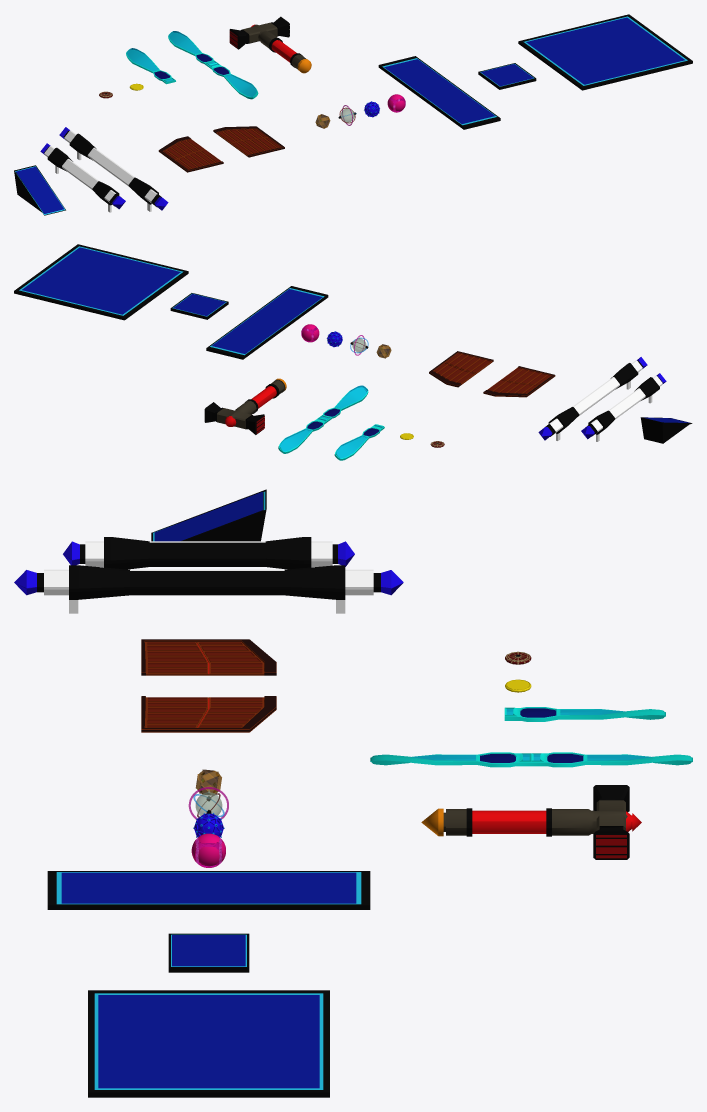
The model's file is object 1.1.fbx_Collection.fbx.
The picture shows the model from 3 angles, top to bottom: view 1: azimuth 30°, elevation 25°; view 2: azimuth 150°, elevation 25°; view 3: azimuth 270°, elevation 25°; orthographic projection. The views are drawn at different scales.
Parts seen in each view (by area): view 1: Lar. dis, Hall, Hammer, Handrail2, Hall.001, Handrail, r door, l door, fan, sm. distr, Fan 2; view 2: Lar. dis, Hall, Hammer, Handrail2, Handrail, l door, r door, fan, sm. distr, Hall.001, Fan 2; view 3: Lar. dis, Hall, Handrail2, Handrail, Hammer, l door, r door, fan, Hall.001, sm. distr, Fan 2, Ball 2.
Part boxes in pixels (x1=…): Lar. dis: x1=518, y1=14, x2=692, y2=90; Hall: x1=378, y1=56, x2=500, y2=129; Hammer: x1=229, y1=16, x2=311, y2=73; Handrail2: x1=59, y1=127, x2=168, y2=211; Hall.001: x1=14, y1=165, x2=65, y2=215; Handrail: x1=40, y1=143, x2=125, y2=212; r door: x1=213, y1=126, x2=284, y2=157; l door: x1=158, y1=136, x2=223, y2=172; fan: x1=168, y1=31, x2=258, y2=99; sm. distr: x1=478, y1=63, x2=536, y2=89; Fan 2: x1=126, y1=48, x2=175, y2=84; Lar. dis: x1=14, y1=244, x2=188, y2=320; Hall: x1=206, y1=286, x2=328, y2=359; Hammer: x1=204, y1=378, x2=286, y2=434; Handrail2: x1=538, y1=357, x2=647, y2=440; Handrail: x1=581, y1=373, x2=666, y2=441; l door: x1=483, y1=366, x2=555, y2=397; r door: x1=429, y1=351, x2=493, y2=387; fan: x1=278, y1=385, x2=368, y2=453; sm. distr: x1=170, y1=293, x2=228, y2=319; Hall.001: x1=640, y1=417, x2=692, y2=443; Fan 2: x1=334, y1=424, x2=384, y2=460; Lar. dis: x1=88, y1=990, x2=329, y2=1097; Hall: x1=47, y1=871, x2=370, y2=909; Handrail2: x1=14, y1=565, x2=403, y2=613; Handrail: x1=63, y1=537, x2=354, y2=569; Hammer: x1=421, y1=785, x2=641, y2=859; l door: x1=141, y1=639, x2=276, y2=675; r door: x1=141, y1=696, x2=276, y2=732; fan: x1=370, y1=752, x2=692, y2=767; Hall.001: x1=151, y1=489, x2=266, y2=541; sm. distr: x1=168, y1=933, x2=249, y2=972; Fan 2: x1=504, y1=707, x2=665, y2=721; Ball 2: x1=191, y1=833, x2=225, y2=867.
Size of the model in its own units: 1.03 by 0.0383 by 0.505.
